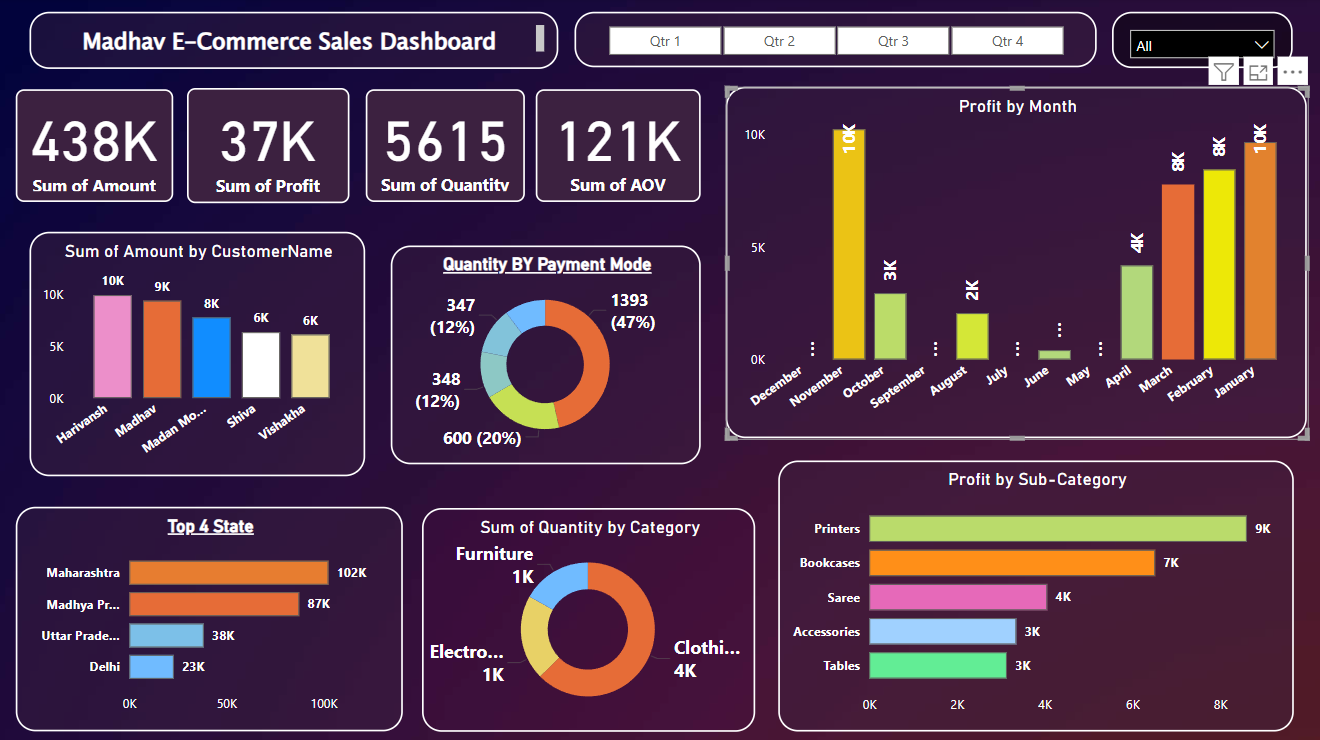

The page's visual inventory and layout, read from the dashboard file:
{"tool":"powerbi","page":{"name":"Page 1","canvas":[1280,720],"ordinal":0},"visuals":[{"type":"textbox","box":[31.6,13.7,510.5,54.9],"z":0},{"type":"clusteredColumnChart","title":" Profit by Month","fields":{"Category":["Orders2.OrderDate.Variation.Date Hierarchy.Month"],"Y":["Details.Profit"]},"box":[703.9,85.9,561.2,339.5],"z":1000},{"type":"barChart","title":"Profit by Sub-Category","fields":{"Category":["Details.Sub-Category"],"Y":["Details.Profit"]},"box":[753.8,446.2,497.4,261.9],"z":2000},{"type":"donutChart","fields":{"Category":["Details.Category"],"Y":["Details.Quantity"]},"box":[410.1,491.9,321.5,216.2],"z":3000},{"type":"columnChart","fields":{"Category":["Orders2.CustomerName"],"Y":["Details.Amount"]},"box":[31.6,225,323.8,236],"z":4000},{"type":"card","fields":{"Values":["Details.Amount"]},"box":[18.1,88.1,152,108.6],"z":5000},{"type":"card","fields":{"Values":["Details.Profit"]},"box":[183.9,86.4,156.4,111.1],"z":6000},{"type":"card","fields":{"Values":["Details.Quantity"]},"box":[355.4,87.8,153.7,108.4],"z":7000},{"type":"card","fields":{"Values":["Details.AOV"]},"box":[520.1,87.8,159.2,108.4],"z":8000},{"type":"donutChart","title":"Quantity BY Payment Mode","fields":{"Y":["Details.Quantity"],"Category":["Details.PaymentMode"]},"box":[380.1,238.8,299.1,211.3],"z":9000},{"type":"barChart","title":"Top 4 State","fields":{"Category":["Orders2.State"],"Y":["Details.Amount"]},"box":[17.8,491.3,373.2,216.8],"z":10000},{"type":"slicer","fields":{"Values":["Orders2.OrderDate.Variation.Date Hierarchy.Quarter"]},"box":[557.1,13.7,503.6,53.5],"z":10001},{"type":"slicer","fields":{"Values":["Orders2.State"]},"box":[1076.6,13.9,174.6,54],"z":10002}]}

Visuals, with their boxes in screenshot pixels (x1, y1, x2, y2), scaled from the page's 1280x720 canvas onto the 1320x740 screenshot:
textbox: x1=33, y1=14, x2=559, y2=71
" Profit by Month" clusteredColumnChart: x1=726, y1=88, x2=1305, y2=437
"Profit by Sub-Category" barChart: x1=777, y1=459, x2=1290, y2=728
donutChart - Details.Category x Details.Quantity: x1=423, y1=506, x2=754, y2=728
columnChart - Orders2.CustomerName x Details.Amount: x1=33, y1=231, x2=367, y2=474
card - Details.Amount: x1=19, y1=91, x2=175, y2=202
card - Details.Profit: x1=190, y1=89, x2=351, y2=203
card - Details.Quantity: x1=367, y1=90, x2=525, y2=202
card - Details.AOV: x1=536, y1=90, x2=701, y2=202
"Quantity BY Payment Mode" donutChart: x1=392, y1=245, x2=700, y2=463
"Top 4 State" barChart: x1=18, y1=505, x2=403, y2=728
slicer - Orders2.OrderDate.Variation.Date Hierarchy.Quarter: x1=575, y1=14, x2=1094, y2=69
slicer - Orders2.State: x1=1110, y1=14, x2=1290, y2=70
